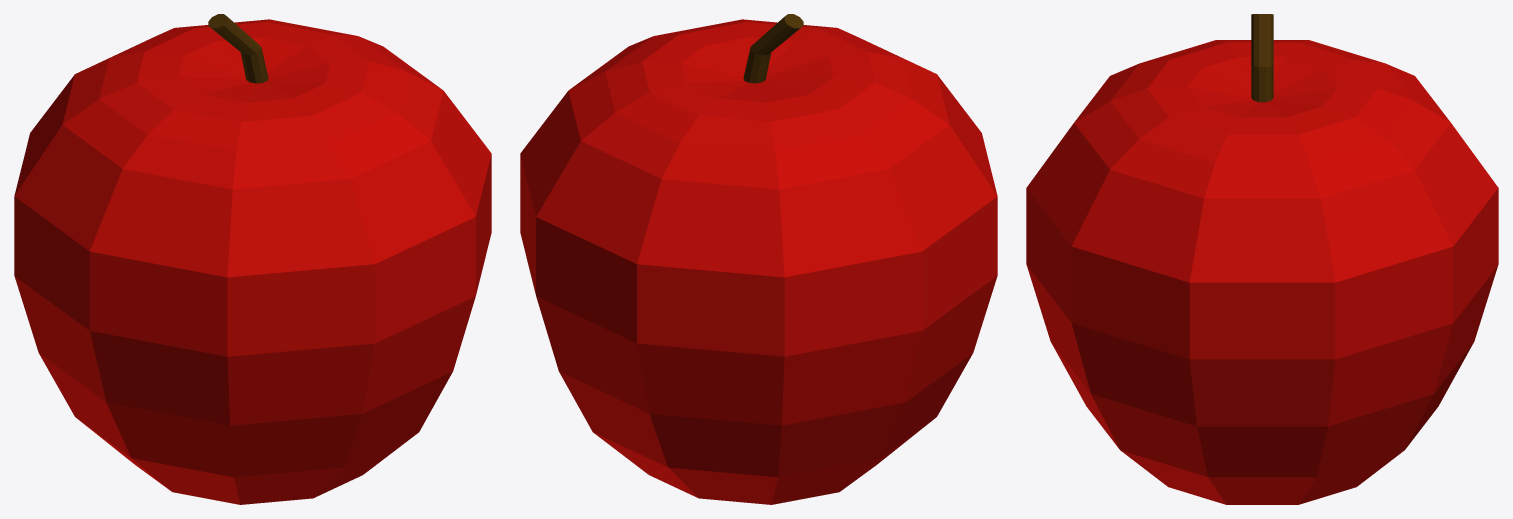
The model's file is Ma_Fruit_Apple.fbx.
3 renders of one model, left to right at view 1: azimuth 30°, elevation 25°; view 2: azimuth 150°, elevation 25°; view 3: azimuth 270°, elevation 25°, orthographic. The views are drawn at different scales.
Visible parts, largest first — view 1: Ma_Fruit_Apple; view 2: Ma_Fruit_Apple; view 3: Ma_Fruit_Apple.
Boxes of the visible parts, x1=… form: Ma_Fruit_Apple: x1=14, y1=14, x2=491, y2=504; Ma_Fruit_Apple: x1=520, y1=14, x2=997, y2=504; Ma_Fruit_Apple: x1=1026, y1=14, x2=1498, y2=504.
Bounding box in the file's own units: 65.55 × 68.93 × 69.47.
